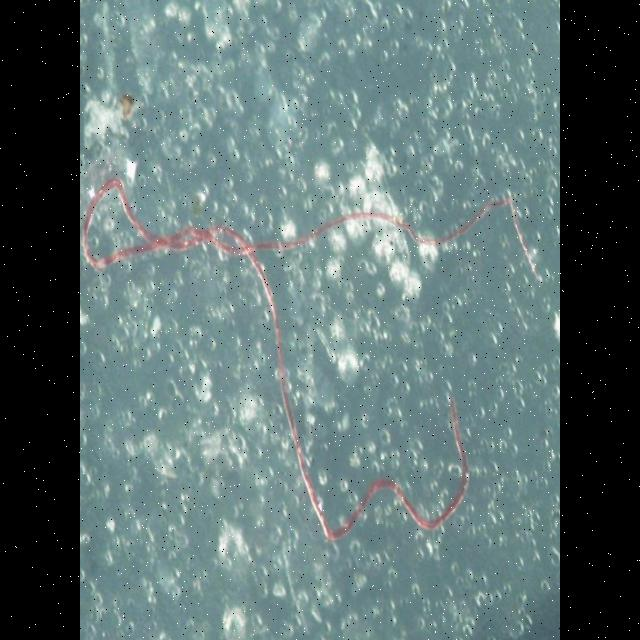Fibre: (80, 174, 538, 544)
